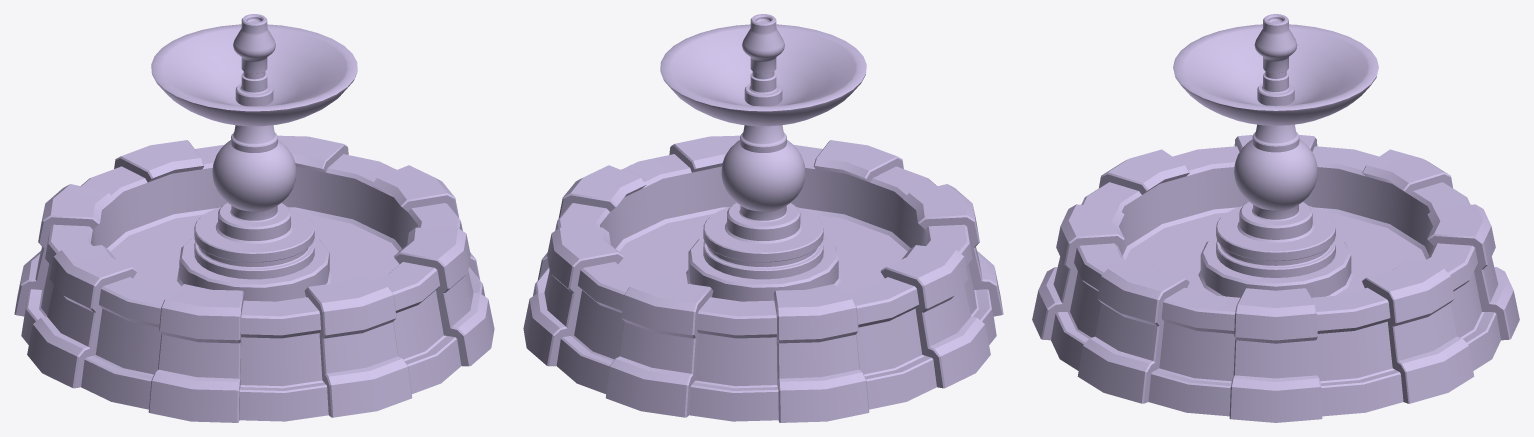
The model's file is fuente.glb.
The picture shows the model from 3 angles, left to right: view 1: azimuth 30°, elevation 25°; view 2: azimuth 150°, elevation 25°; view 3: azimuth 270°, elevation 25°; orthographic projection.
Visible parts, largest first — view 1: fountain1; view 2: fountain1; view 3: fountain1.
Boxes of the visible parts, left/top/right/bottom form: fountain1: left=14, top=14, right=494, bottom=422; fountain1: left=523, top=14, right=1003, bottom=422; fountain1: left=1032, top=14, right=1519, bottom=422.
Bounding box in the file's own units: 4.86 × 3.32 × 4.86.
